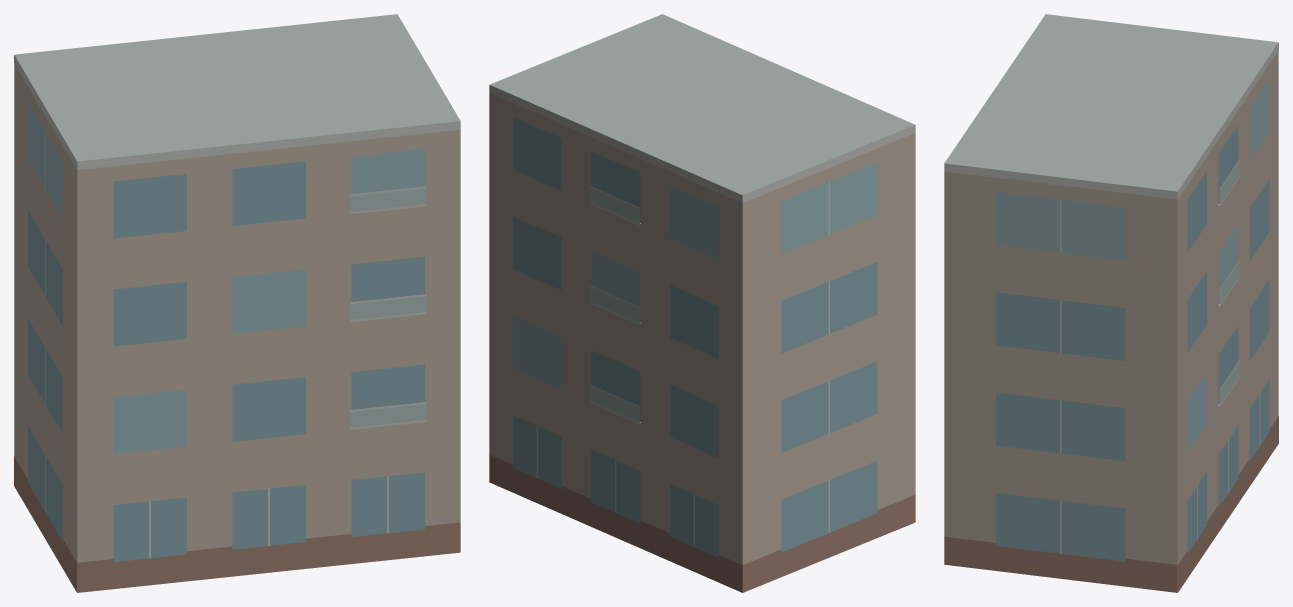
The model's file is residential-48966dc2-508b-4d74-a835-495b7339facc.glb.
3 renders of one model, left to right at view 1: azimuth 30°, elevation 25°; view 2: azimuth 150°, elevation 25°; view 3: azimuth 270°, elevation 25°, orthographic. The views are drawn at different scales.
Visible parts, largest first — view 1: residential-48966dc2-508b-4d74-a835-495b7339facc.tmp; view 2: residential-48966dc2-508b-4d74-a835-495b7339facc.tmp; view 3: residential-48966dc2-508b-4d74-a835-495b7339facc.tmp.
Part boxes in pixels (<box>): residential-48966dc2-508b-4d74-a835-495b7339facc.tmp: <box>14,14,460,592</box>; residential-48966dc2-508b-4d74-a835-495b7339facc.tmp: <box>489,14,915,592</box>; residential-48966dc2-508b-4d74-a835-495b7339facc.tmp: <box>944,14,1278,592</box>.
Size of the model in its own units: 11.59 by 12.2 by 9.23.
